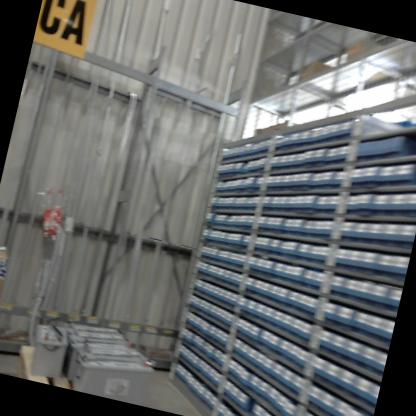pallet: (11, 342, 95, 392)
